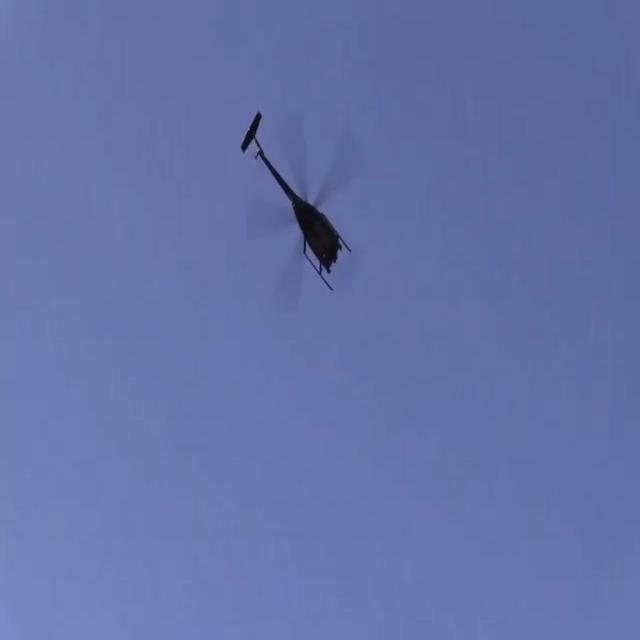Helicopter: (218, 92, 377, 326)
